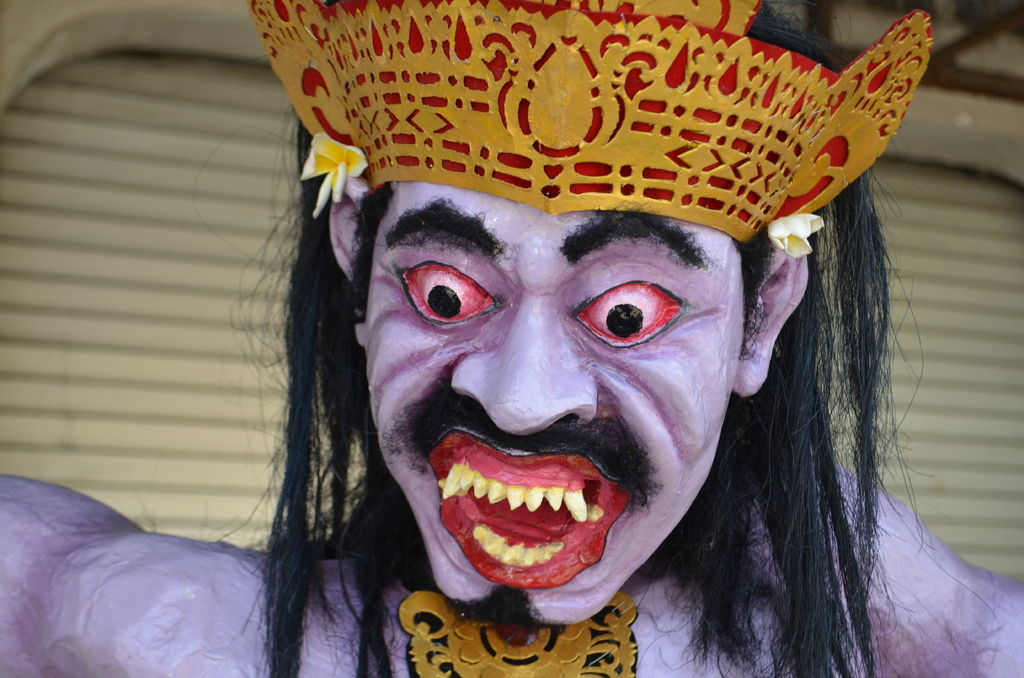Person: (0, 0, 1023, 677)
